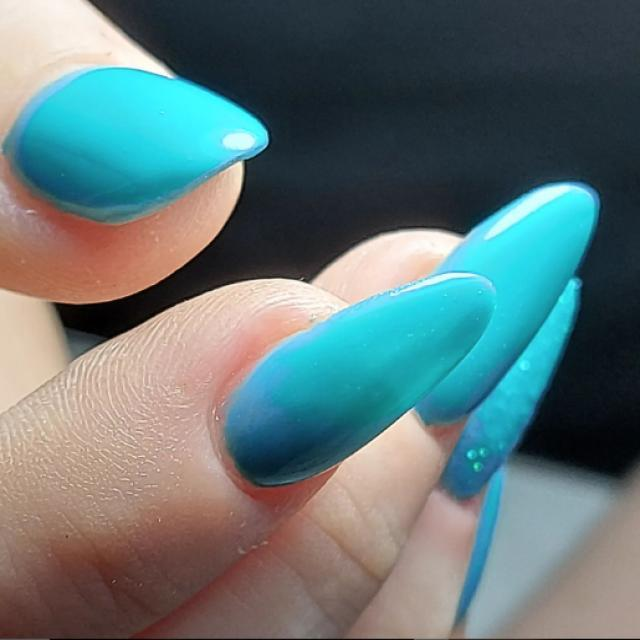Nail: (224, 271, 496, 486), (419, 184, 599, 423), (5, 68, 268, 222), (442, 276, 584, 496), (452, 466, 505, 632)
